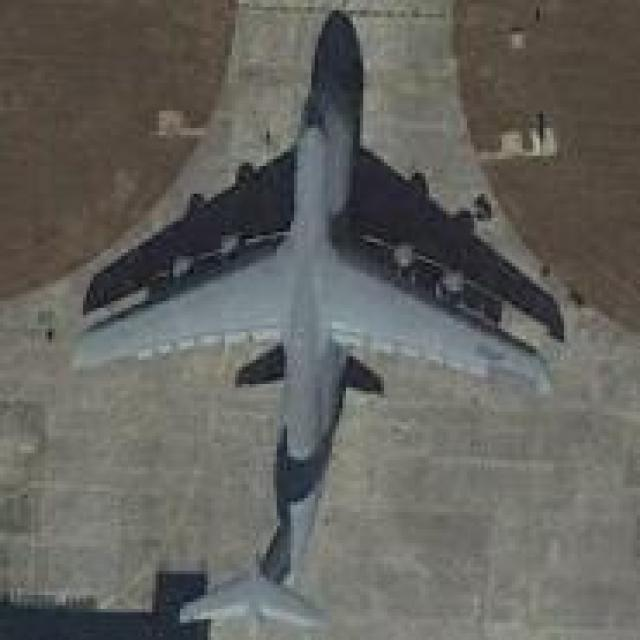C-5_TopDown: (73, 15, 578, 634)
